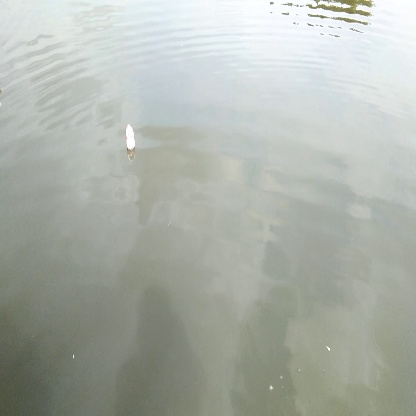bottle: (122, 123, 141, 156)
